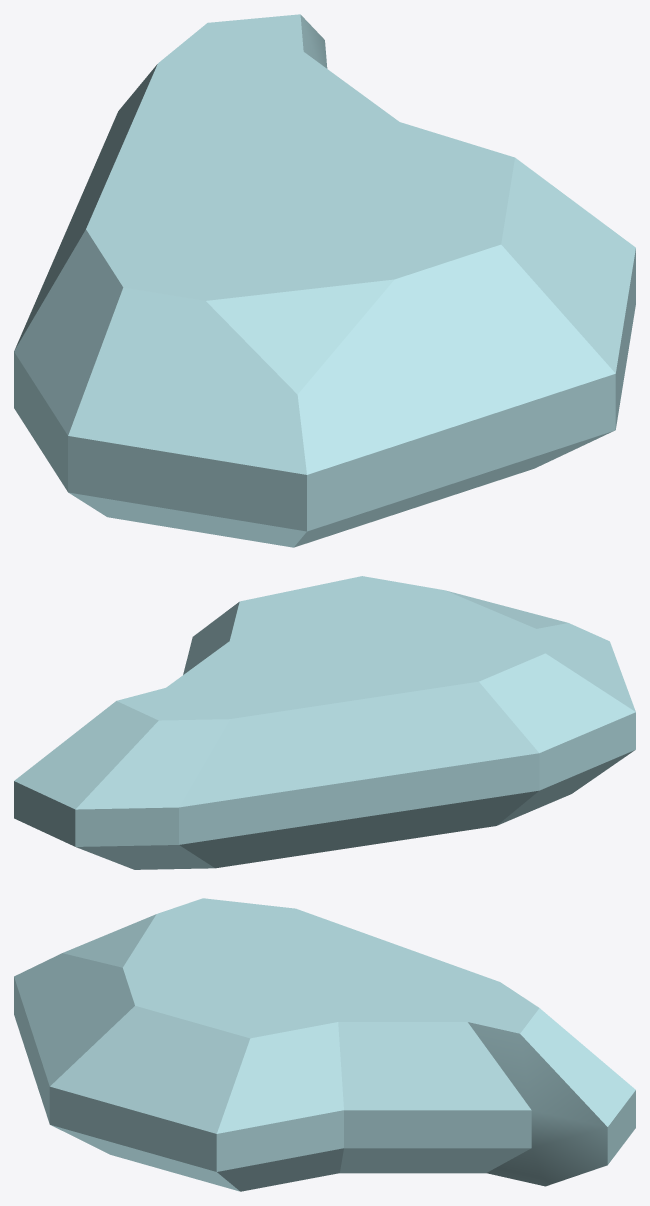
The model's file is stone_largeA.dae.
The picture shows the model from 3 angles, top to bottom: view 1: azimuth 30°, elevation 25°; view 2: azimuth 150°, elevation 25°; view 3: azimuth 270°, elevation 25°; orthographic projection. The views are drawn at different scales.
Parts seen in each view (by area): view 1: stone_largeA; view 2: stone_largeA; view 3: stone_largeA.
Part boxes in pixels (box(x1,y1,x2,y2)): stone_largeA: box(14, 14, 635, 547); stone_largeA: box(14, 576, 635, 869); stone_largeA: box(14, 898, 635, 1191).
Bounding box in the file's own units: 0.7849 × 0.2598 × 1.02.
